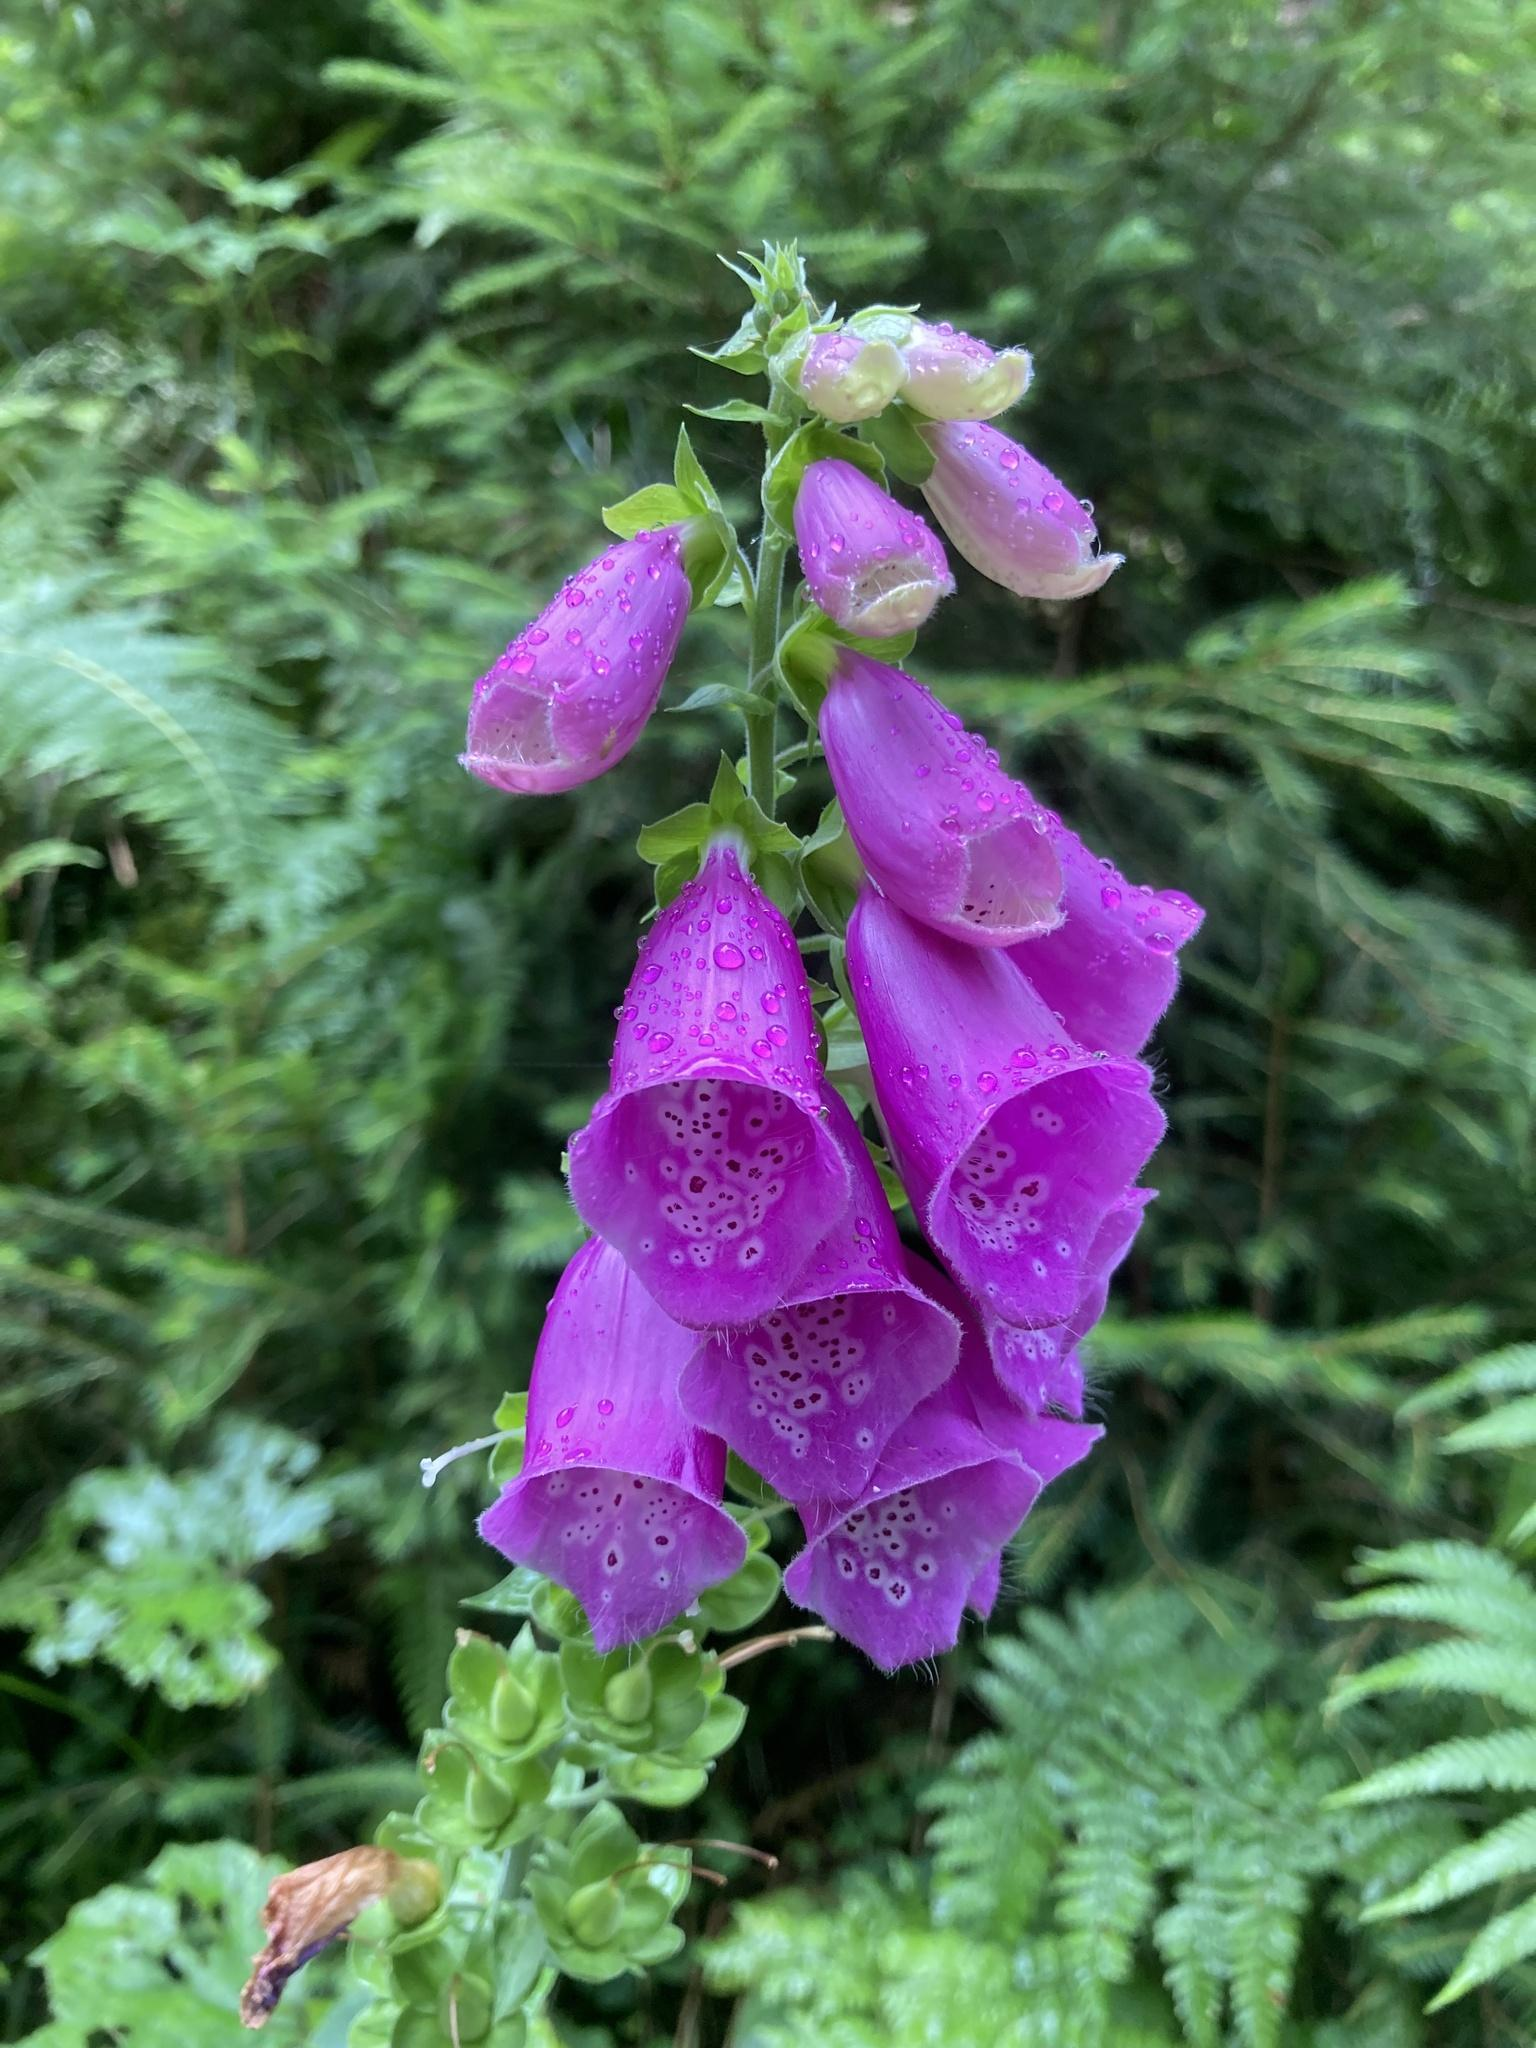Digitalis L: (324, 239, 1218, 1996)
